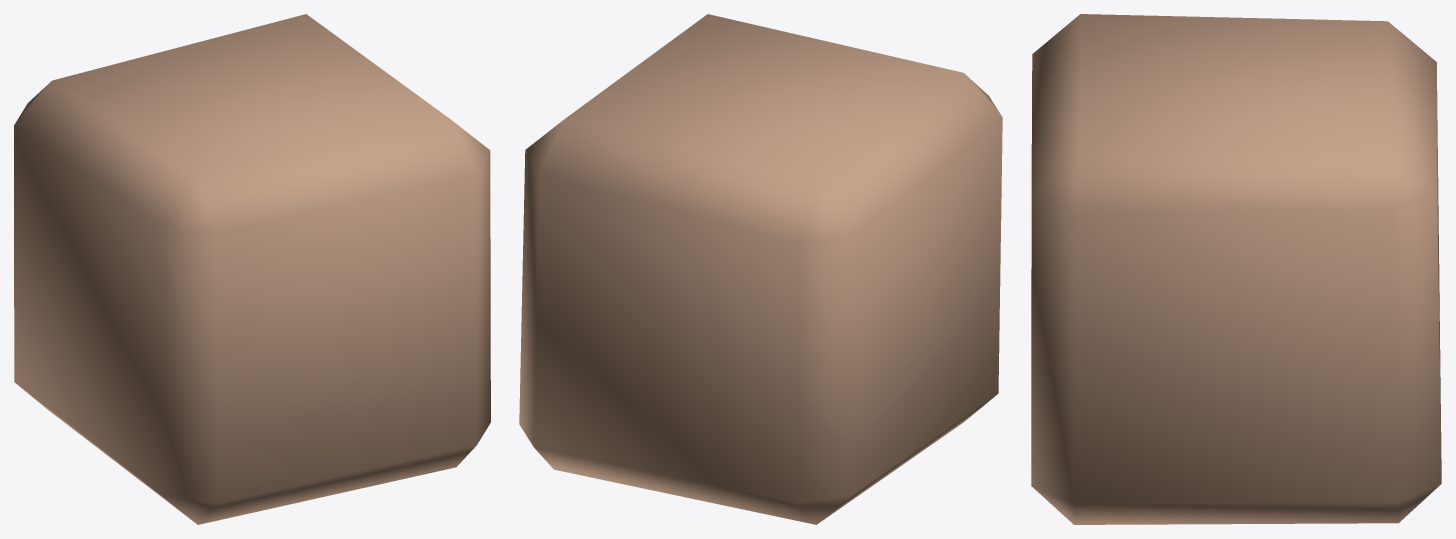
Rendered from MudCube01_low.FBX.
3 views of the same model, side by side, from view 1: azimuth 30°, elevation 25°; view 2: azimuth 150°, elevation 25°; view 3: azimuth 270°, elevation 25° (orthographic). The views are drawn at different scales.
Visible parts, largest first — view 1: MudCube01_low; view 2: MudCube01_low; view 3: MudCube01_low.
Part boxes in pixels (box(x1,y1,x2,y2)): MudCube01_low: box(14, 14, 490, 524); MudCube01_low: box(519, 14, 1002, 524); MudCube01_low: box(1031, 14, 1441, 524).
Bounding box in the file's own units: 130 × 131 × 130.
